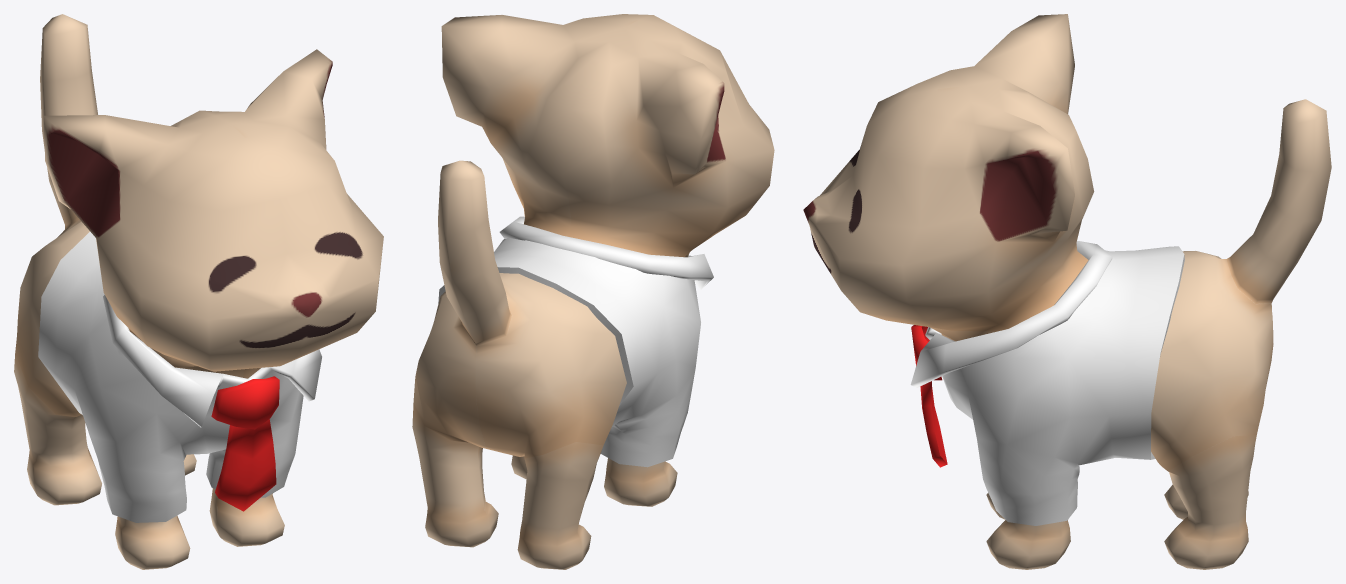
File: Dean Cat01.fbx
3 views of the same model, side by side, from view 1: azimuth 30°, elevation 25°; view 2: azimuth 150°, elevation 25°; view 3: azimuth 270°, elevation 25° (orthographic). The views are drawn at different scales.
Parts seen in each view (by area): view 1: Cat_Base, Dean_Cat_Shirt; view 2: Cat_Base, Dean_Cat_Shirt; view 3: Cat_Base, Dean_Cat_Shirt.
Boxes of the visible parts, bbox=[...] form: Cat_Base: bbox=[14, 14, 383, 569]; Dean_Cat_Shirt: bbox=[38, 231, 321, 522]; Cat_Base: bbox=[412, 14, 774, 569]; Dean_Cat_Shirt: bbox=[438, 216, 713, 467]; Cat_Base: bbox=[803, 14, 1331, 569]; Dean_Cat_Shirt: bbox=[910, 240, 1184, 525].
Size of the model in its own units: 1.75 by 2.83 by 2.68.
3 materials, 1 textured.
